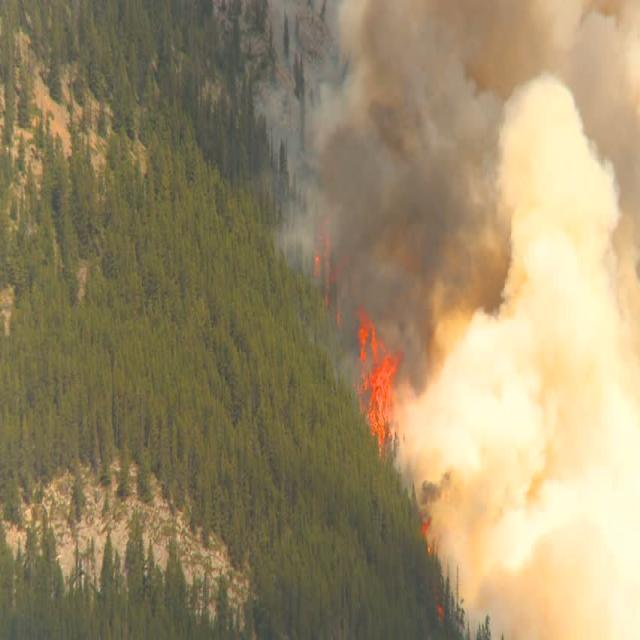Fire: (347, 298, 407, 472), (302, 218, 342, 322), (412, 503, 433, 551), (430, 592, 450, 627)
Smoke: (247, 0, 640, 640)
